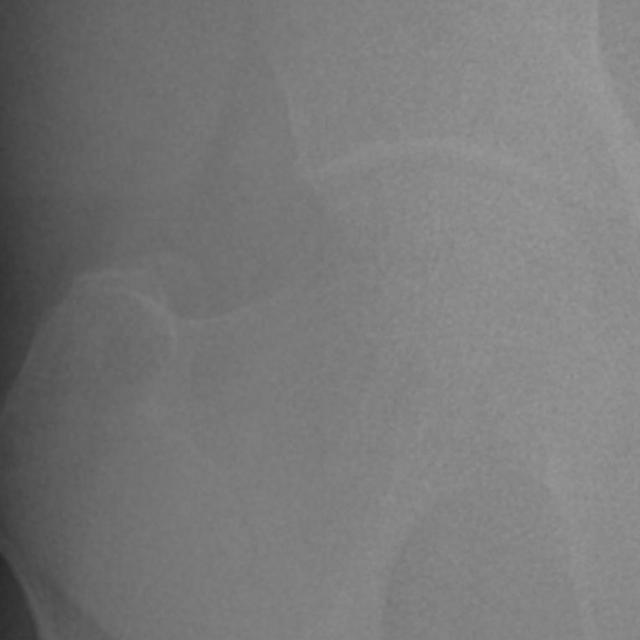Fitted_femural_head: (343, 168, 432, 343)
